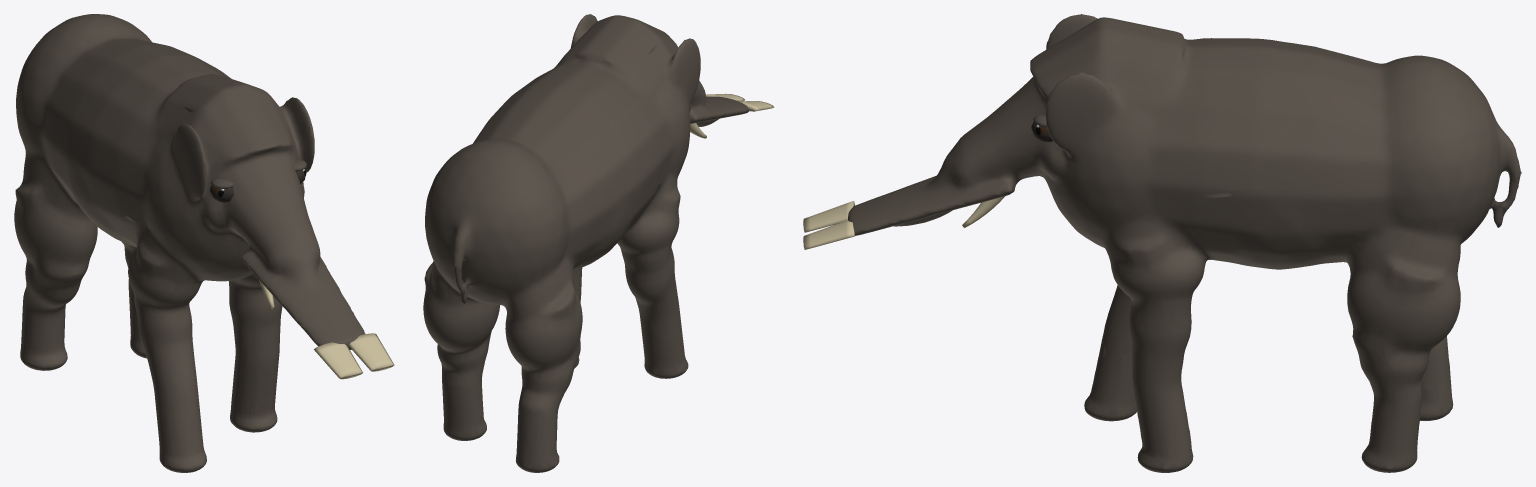
The model's file is PlatybelodonGrangeri.fbx.
3 views of the same model, side by side, from view 1: azimuth 30°, elevation 25°; view 2: azimuth 150°, elevation 25°; view 3: azimuth 270°, elevation 25° (orthographic). The views are drawn at different scales.
Visible parts, largest first — view 1: PlatybelodonGrangeri; view 2: PlatybelodonGrangeri; view 3: PlatybelodonGrangeri.
Part boxes in pixels (<box>): PlatybelodonGrangeri: <box>14,14,394,472</box>; PlatybelodonGrangeri: <box>423,14,774,472</box>; PlatybelodonGrangeri: <box>803,14,1521,472</box>.
Size of the model in its own units: 0.6863 by 1.54 by 2.4.
